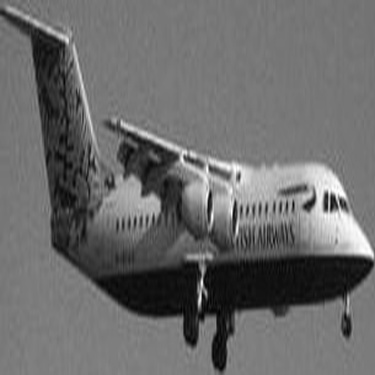airplane: (6, 7, 374, 372)
